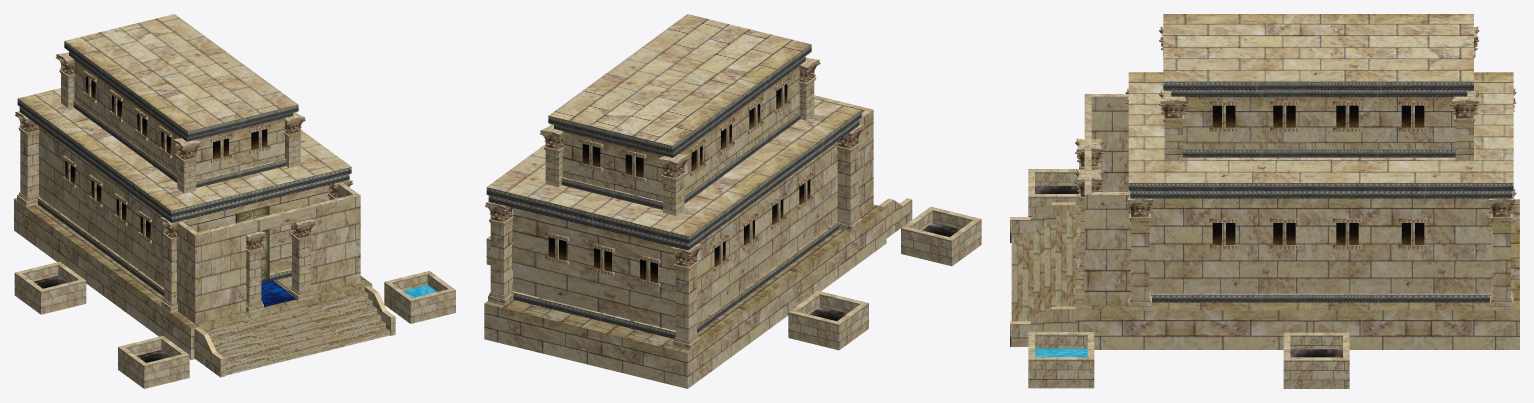
File: sinagoga.dae
The picture shows the model from 3 angles, left to right: view 1: azimuth 30°, elevation 25°; view 2: azimuth 150°, elevation 25°; view 3: azimuth 270°, elevation 25°; orthographic projection. The views are drawn at different scales.
Visible parts, largest first — view 1: sinagoga; view 2: sinagoga; view 3: sinagoga.
Part boxes in pixels (bbox=[...]): sinagoga: bbox=[14, 14, 455, 388]; sinagoga: bbox=[484, 14, 981, 388]; sinagoga: bbox=[1010, 14, 1519, 388].
Bounding box in the file's own units: 7.31 × 8.2 × 4.34.
